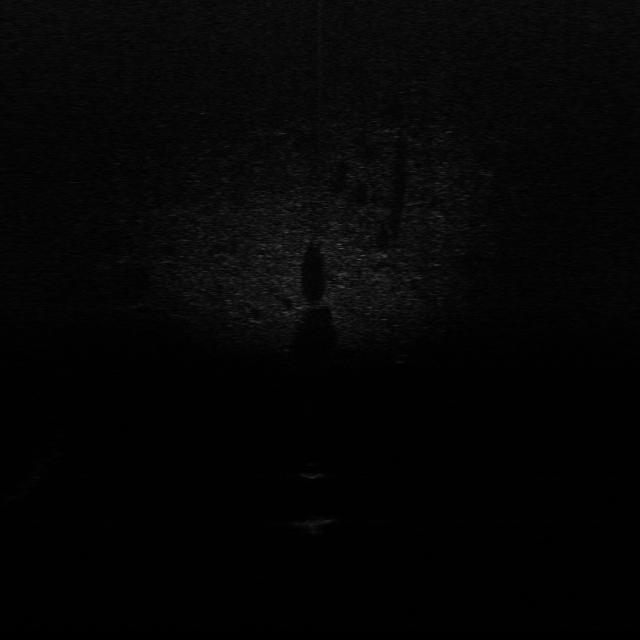ball: (298, 460, 326, 480)
square cage: (290, 512, 342, 532)
tyre: (392, 335, 421, 368)
